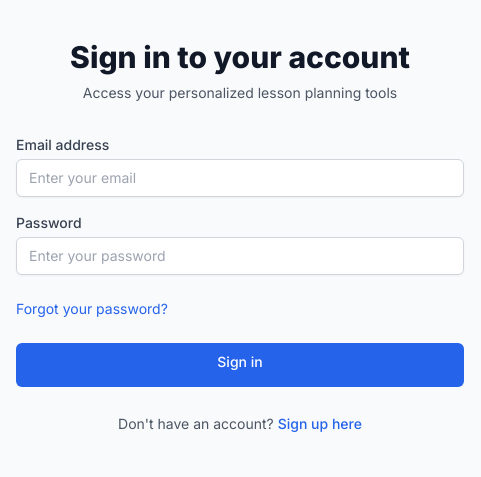
Test: LoginPage › clears validation error when user starts typing
The image size is (481, 477).
// Trigger validation error
Submit the form named "sign in to your account", box [16,135,464,435]
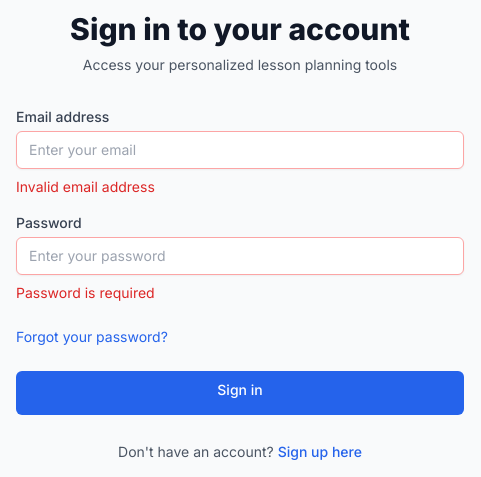
Expected: the text "Invalid email address" is shown, [16,178,155,195]
// Start typing to clear error
Type "test" into the field labelled "Email address".
click(240, 150); type("test")  # box [16,131,464,169]
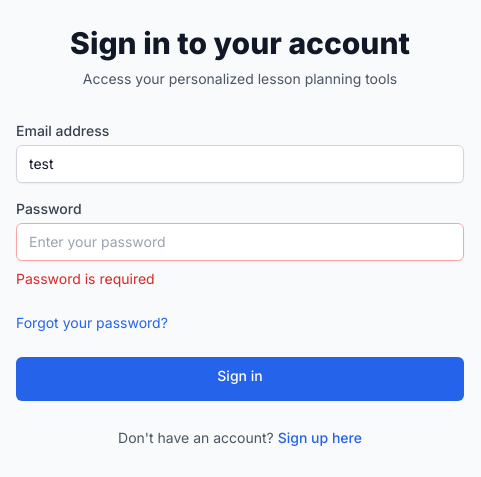
Expected: the text "Invalid email address" is gone
